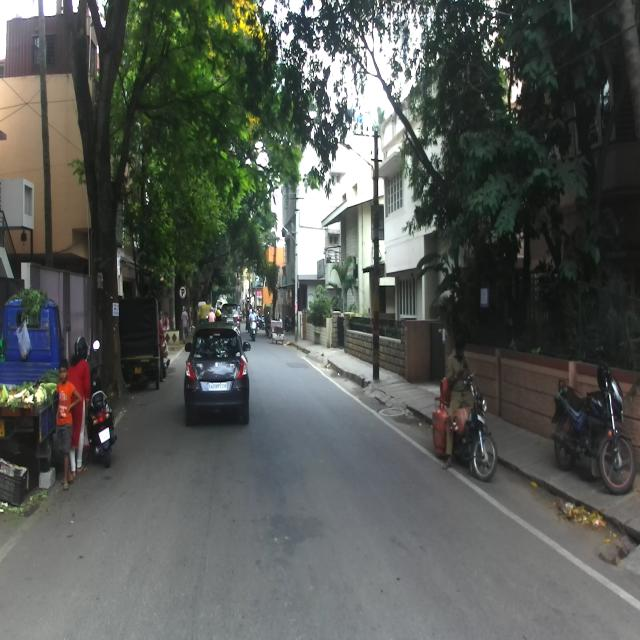car ahead at: (180, 325, 256, 420)
electric pole ahead at: (364, 119, 389, 385)
motorcycle ahead at: (552, 366, 637, 499), (464, 382, 498, 491), (88, 388, 117, 462)
